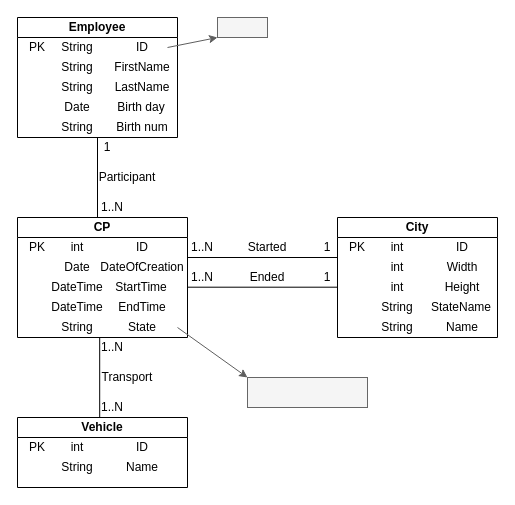
Image size: 515x505. Some labels were removed from this diagram. Each missing label, with the centre of its shape:
Defined according assignment: pixel 307 392
max 10: pixel 242 27
